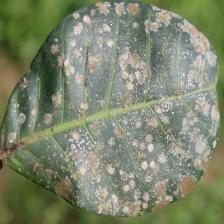red rust: (0, 0, 220, 217)
